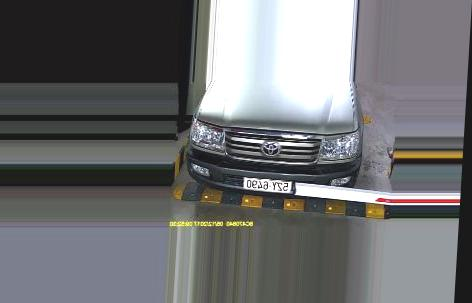License_Plate: (240, 176, 295, 194)
